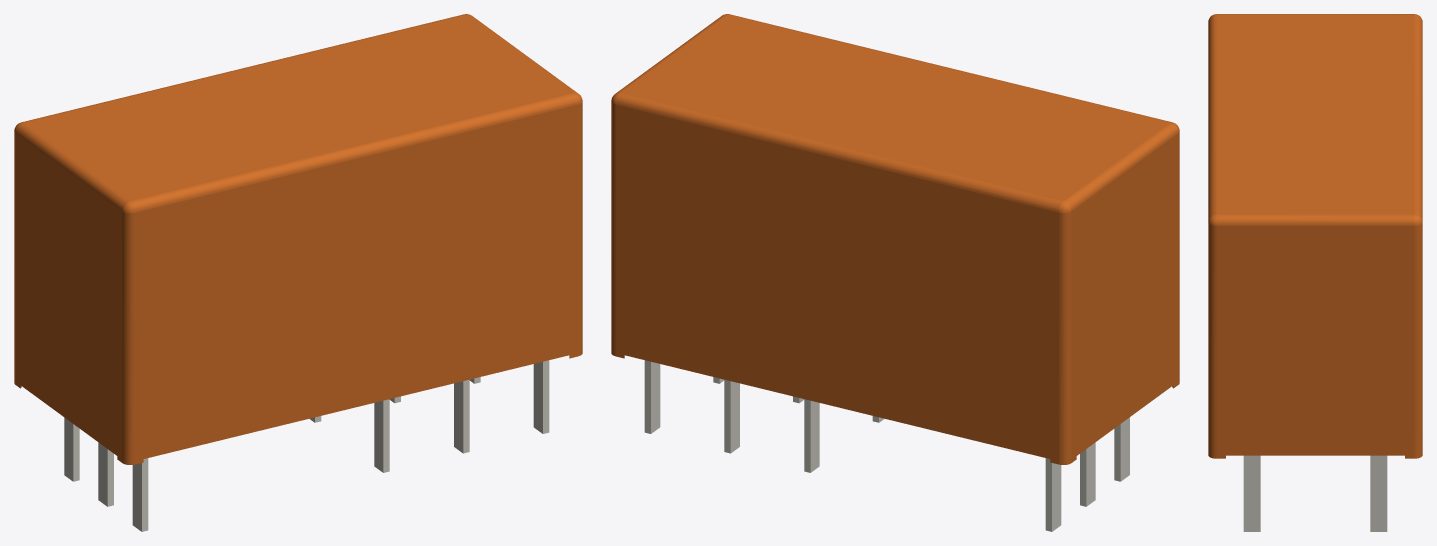
File: kc-relay_dpdt_schrack-rt2-formc-dual-coil_rm5mm.glb
3 renders of one model, left to right at view 1: azimuth 30°, elevation 25°; view 2: azimuth 150°, elevation 25°; view 3: azimuth 270°, elevation 25°, orthographic. The views are drawn at different scales.
Visible parts, largest first — view 1: 0.5833333333333334_0.16666666666666666_0_0, 0.6666666666666666_0.6666666666666666_0.5833333333333334_0.8; view 2: 0.5833333333333334_0.16666666666666666_0_0, 0.6666666666666666_0.6666666666666666_0.5833333333333334_0.8; view 3: 0.5833333333333334_0.16666666666666666_0_0, 0.6666666666666666_0.6666666666666666_0.5833333333333334_0.8.
Part boxes in pixels (x1,y1,x2,y2): 0.5833333333333334_0.16666666666666666_0_0: (14,14,582,464); 0.6666666666666666_0.6666666666666666_0.5833333333333334_0.8: (64,360,549,531); 0.5833333333333334_0.16666666666666666_0_0: (611,14,1179,464); 0.6666666666666666_0.6666666666666666_0.5833333333333334_0.8: (644,360,1129,531); 0.5833333333333334_0.16666666666666666_0_0: (1208,14,1422,458); 0.6666666666666666_0.6666666666666666_0.5833333333333334_0.8: (1243,455,1387,531).
Bounding box in the file's own units: 2.9 × 2.1 × 1.27.
